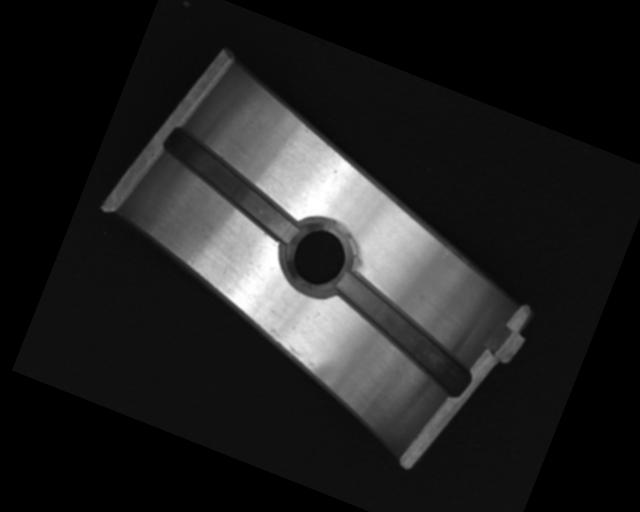gap: (317, 267, 487, 396), (144, 123, 314, 245)
hole: (269, 205, 367, 307)
